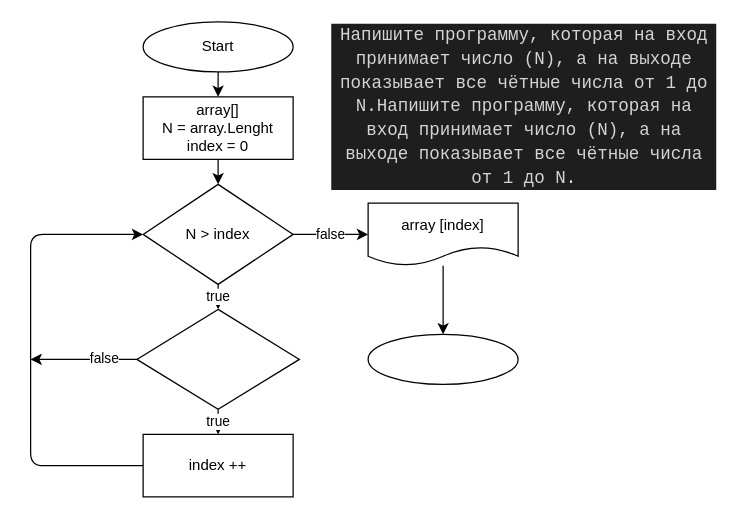
The diagram is 740 pixels wide and 519 high, and some of its shapes have lost their labels. Each missing label, with the centre of its shape:
array[index]/2 ==0: the point at 217,358
End: the point at 442,358
